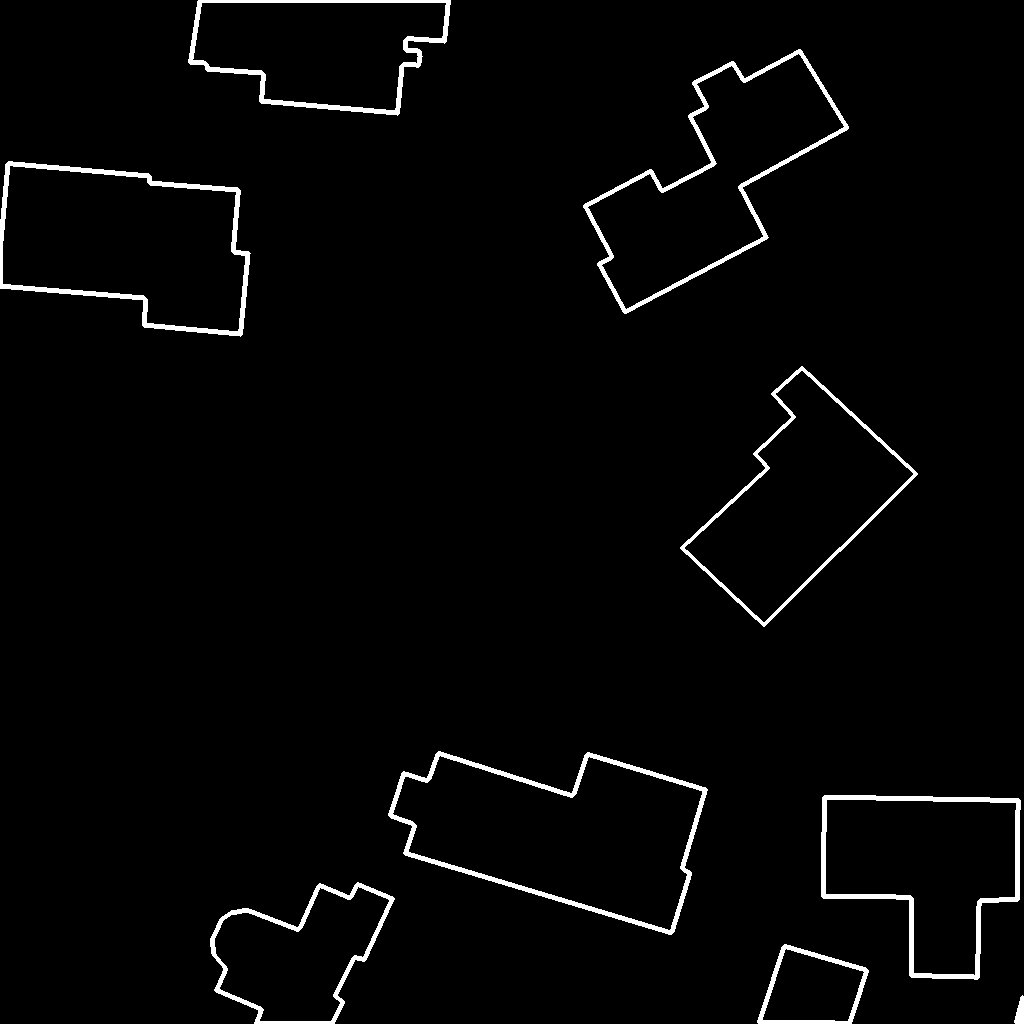building: (585, 51, 848, 313), (682, 368, 917, 626), (390, 753, 707, 934), (0, 163, 249, 335), (823, 797, 1019, 978), (190, 0, 450, 114), (212, 884, 394, 1024), (759, 946, 868, 1024), (1016, 996, 1024, 1024)
